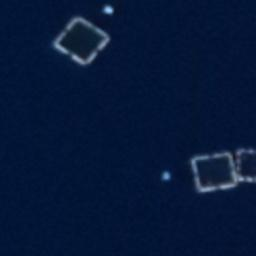square_solid: (47, 12, 116, 70), (188, 146, 241, 195), (230, 141, 256, 185)
